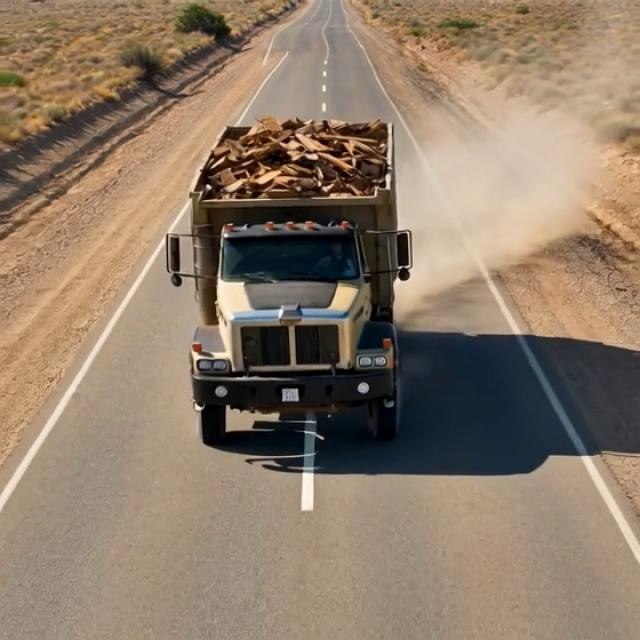trailer: (185, 115, 407, 207)
truck: (157, 105, 411, 440)
